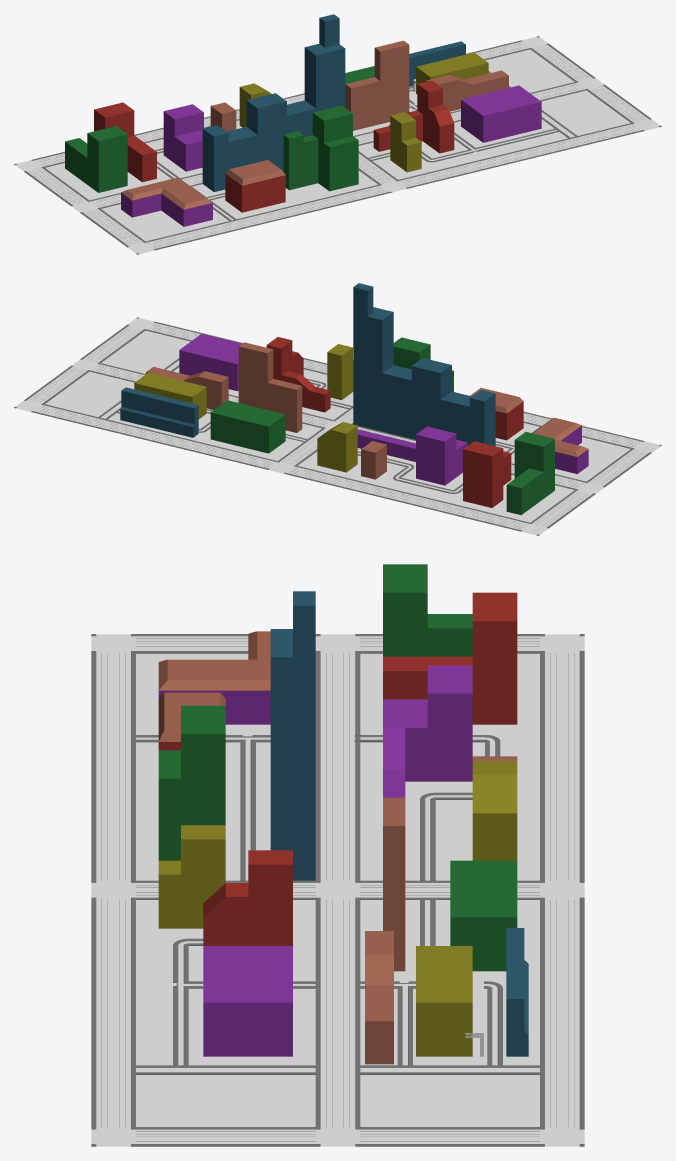
File: MapForExport.fbx
3 renders of one model, top to bottom at view 1: azimuth 30°, elevation 25°; view 2: azimuth 150°, elevation 25°; view 3: azimuth 270°, elevation 25°, orthographic. The views are drawn at different scales.
Parts seen in each view (by area): view 1: Blocks, EdgeRoads, CentralRoads, CornerCrossRoads, MidPointCrossroads, 1_2_Alleyway_Pavement.014; view 2: Blocks, EdgeRoads, CentralRoads, CornerCrossRoads, MidPointCrossroads; view 3: Blocks, EdgeRoads, CentralRoads, MidPointCrossroads, ShortcutPrimary, CornerCrossRoads, 1_2_Alleyway_Pavement.011, 1_2_Alleyway_Pavement.018, 1_2_Alleyway_Pavement.014, 1_2_Alleyway_Pavement.015, 1_2_Alleyway_Pavement.016.
Part boxes in pixels (<box>): Blocks: <box>45,14,630,241</box>; EdgeRoads: <box>25,41,650,249</box>; CentralRoads: <box>90,82,585,208</box>; CornerCrossRoads: <box>14,36,661,254</box>; MidPointCrossroads: <box>70,77,605,213</box>; 1_2_Alleyway_Pavement.014: <box>474,128,558,151</box>; Blocks: <box>45,283,630,522</box>; EdgeRoads: <box>25,322,650,530</box>; CentralRoads: <box>89,363,585,489</box>; CornerCrossRoads: <box>14,317,661,535</box>; MidPointCrossroads: <box>70,358,605,494</box>; Blocks: <box>136,564,539,1126</box>; EdgeRoads: <box>91,634,584,1146</box>; CentralRoads: <box>136,653,539,1127</box>; MidPointCrossroads: <box>91,634,584,1146</box>; ShortcutPrimary: <box>136,1065,539,1074</box>; CornerCrossRoads: <box>91,634,584,1146</box>; 1_2_Alleyway_Pavement.011: <box>240,740,255,880</box>; 1_2_Alleyway_Pavement.018: <box>420,799,435,880</box>; 1_2_Alleyway_Pavement.014: <box>173,986,188,1065</box>; 1_2_Alleyway_Pavement.015: <box>397,986,412,1065</box>; 1_2_Alleyway_Pavement.016: <box>487,987,502,1065</box>.
Bounding box in the file's own units: 53999 × 13652 × 21998.
